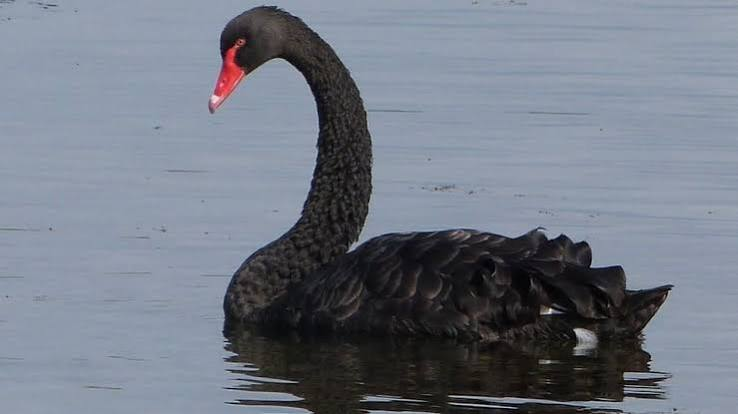black_swan: (207, 6, 673, 353)
